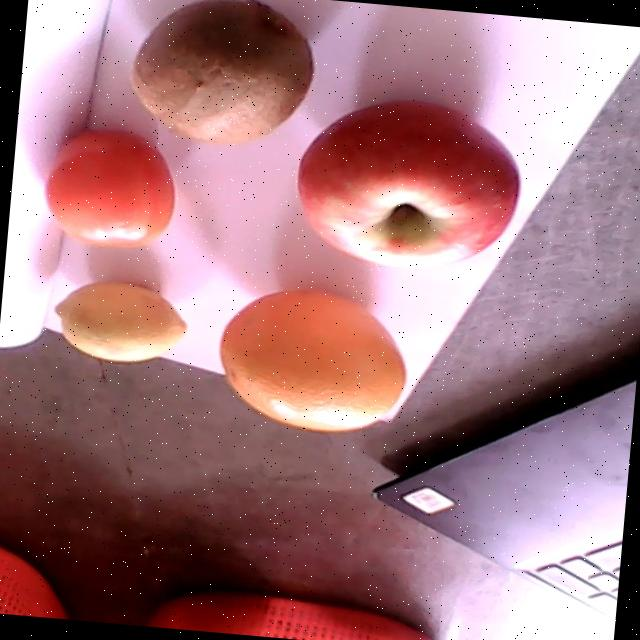apple: (298, 100, 517, 271)
kiwi: (130, 0, 312, 145)
lemon: (53, 280, 186, 363)
orange: (219, 291, 405, 432)
tomato: (47, 127, 172, 249)
